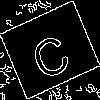C: (24, 25, 74, 82)
